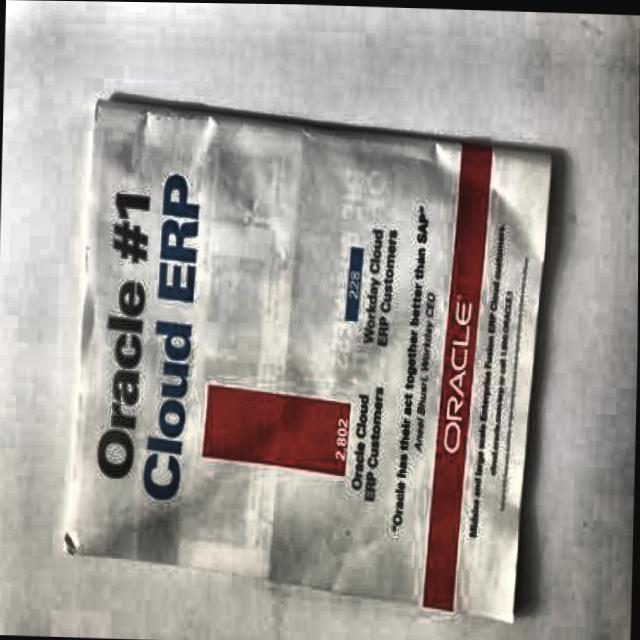Paper: (55, 83, 563, 625)
